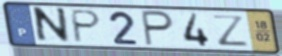2: (106, 8, 143, 47)
4: (181, 11, 212, 48)
N: (34, 6, 72, 45)
P: (140, 9, 176, 48), (70, 8, 103, 44)
Z: (210, 14, 251, 47)
